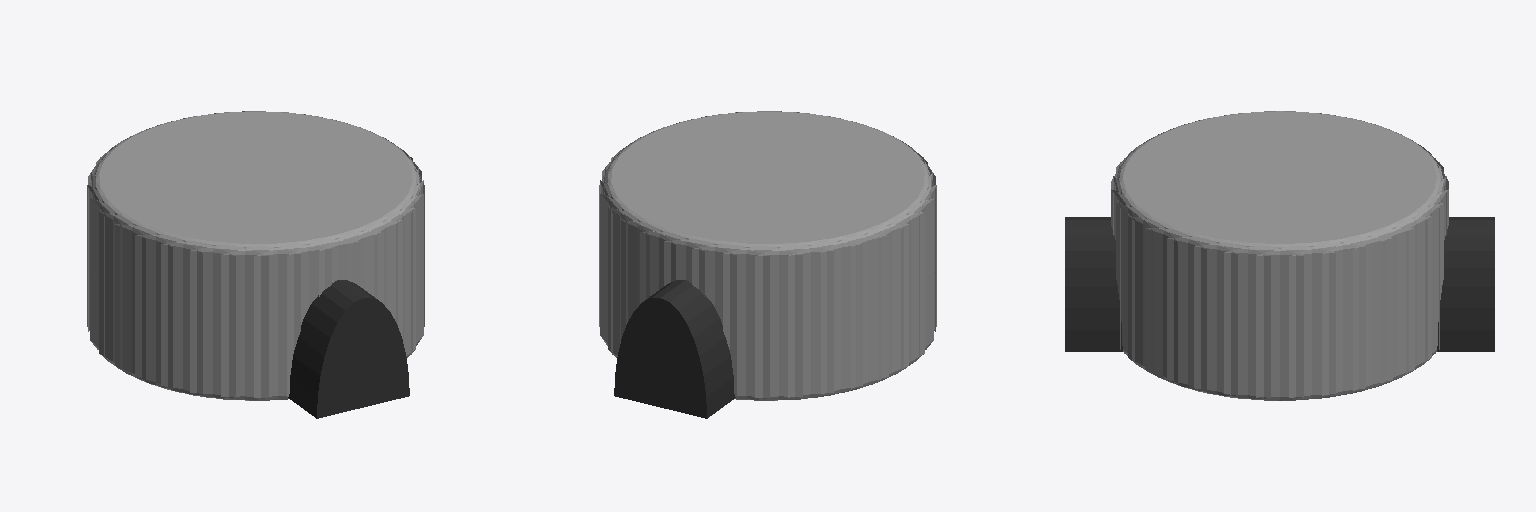
Rendered from waste_processing.obj.
3 renders of one model, left to right at view 1: azimuth 30°, elevation 25°; view 2: azimuth 150°, elevation 25°; view 3: azimuth 270°, elevation 25°, orthographic.
Parts seen in each view (by area): view 1: Glass, Inside; view 2: Glass, Inside; view 3: Glass, Inside.
Boxes of the visible parts, x1,y1,x2,y2 form: Glass: [87, 111, 424, 400]; Inside: [288, 280, 409, 418]; Glass: [599, 111, 936, 400]; Inside: [614, 280, 735, 418]; Glass: [1111, 111, 1448, 400]; Inside: [1065, 217, 1494, 351].
Bounding box in the file's own units: 6.28 × 3.22 × 8.